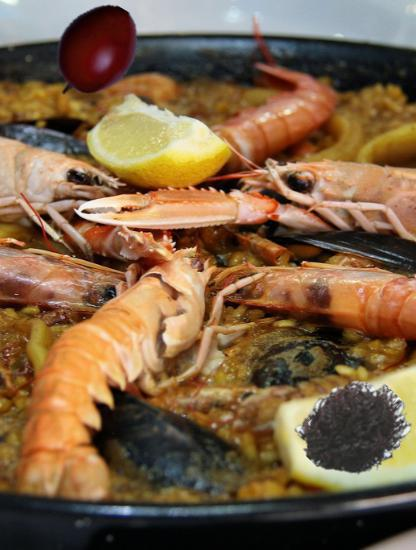Rambutan: (302, 376, 409, 483)
Tamarillo: (41, 0, 148, 107)
